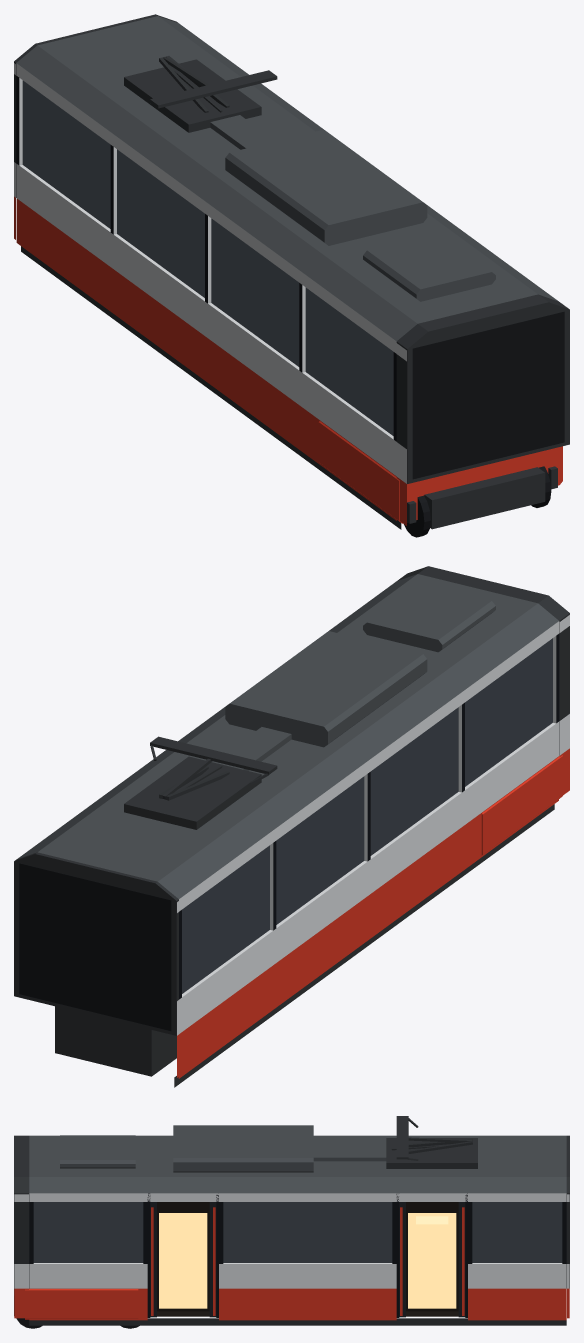
Rendered from 15t-b-open.glb.
3 renders of one model, top to bottom at view 1: azimuth 30°, elevation 25°; view 2: azimuth 150°, elevation 25°; view 3: azimuth 270°, elevation 25°, orthographic. The views are drawn at different scales.
Visible parts, largest first — view 1: 15t-b-open; view 2: 15t-b-open; view 3: 15t-b-open.
Boxes of the visible parts, bbox=[...] form: 15t-b-open: bbox=[14, 14, 569, 537]; 15t-b-open: bbox=[14, 566, 569, 1087]; 15t-b-open: bbox=[14, 1116, 569, 1328].
Size of the model in its own units: 2.48 by 3.48 by 10.3.
